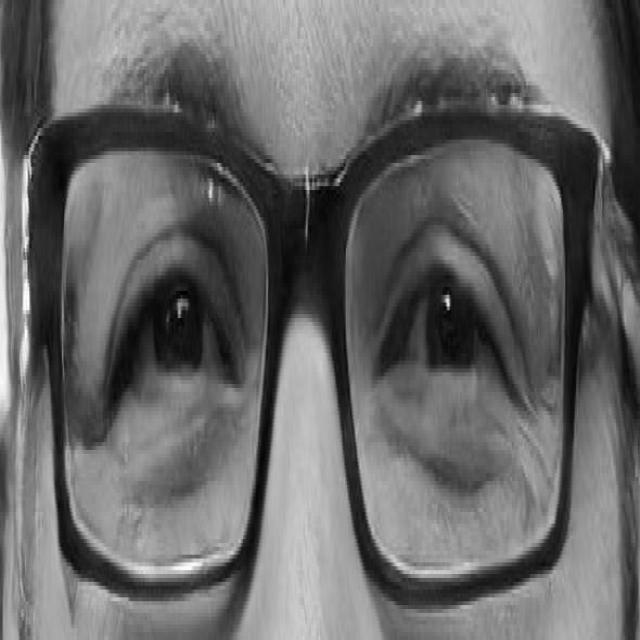real: (56, 78, 570, 597)
